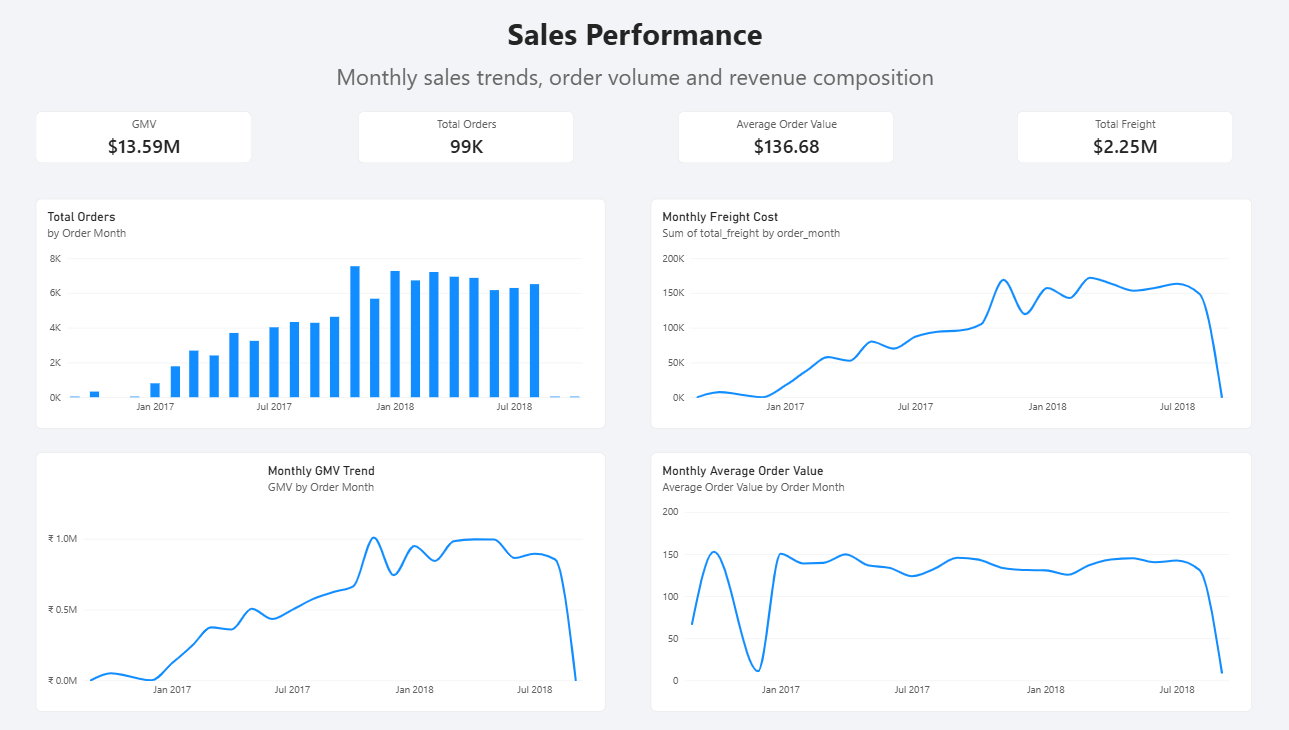

This screenshot's page, from the dashboard's own definition file:
{"tool":"powerbi","page":{"name":"Sales Performance","canvas":[1920,1080],"ordinal":1},"visuals":[{"type":"lineChart","title":"Monthly GMV Trend","fields":{"Y":["Sum(Monthly Sales.gmv)"],"Category":["Monthly Sales.order_month"]},"box":[92.5,677.5,825,375],"z":0},{"type":"columnChart","fields":{"Y":["Sum(Monthly Sales.total_orders)"],"Category":["Monthly Sales.order_month"]},"box":[92.5,310,825,332.5],"z":1000},{"type":"textbox","box":[0,0,1257.5,77.5],"z":2000},{"type":"textbox","box":[0,40,1920,70],"z":3000},{"type":"textbox","box":[0,110,1920,72.5],"z":4000},{"type":"cardVisual","fields":{"Data":["Sum(KPI Summary.gmv)"]},"box":[92.5,182.5,312.5,75],"z":5000},{"type":"cardVisual","fields":{"Data":["Sum(KPI Summary.total_orders)"]},"box":[560,182.5,312.5,75],"z":6000},{"type":"cardVisual","fields":{"Data":["Sum(KPI Summary.aov)"]},"box":[1022.5,182.5,312.5,75],"z":7000},{"type":"cardVisual","fields":{"Data":["Sum(Monthly Sales.total_freight)"]},"box":[1512.5,182.5,312.5,75],"z":8000},{"type":"lineChart","title":"Monthly Freight Cost","fields":{"Y":["Sum(Monthly Sales.total_freight)"],"Category":["Monthly Sales.order_month"]},"box":[982.5,310,870,332.5],"z":9000},{"type":"lineChart","title":"Monthly Average Order Value","fields":{"Category":["Monthly Sales.order_month"],"Y":["Sum(Monthly Sales.aov)"]},"box":[982.5,677.5,870,375],"z":10000}]}

Visuals, with their boxes in screenshot pixels (x1, y1, x2, y2), scaled from the page's 1920x1080 canvas onto the 1289x730 screenshot:
"Monthly GMV Trend" lineChart: box(62, 458, 616, 711)
columnChart - Sum(Monthly Sales.total_orders) x Monthly Sales.order_month: box(62, 210, 616, 434)
textbox: box(0, 0, 844, 52)
textbox: box(0, 27, 1288, 74)
textbox: box(0, 74, 1288, 123)
cardVisual - Sum(KPI Summary.gmv): box(62, 123, 272, 174)
cardVisual - Sum(KPI Summary.total_orders): box(376, 123, 586, 174)
cardVisual - Sum(KPI Summary.aov): box(686, 123, 896, 174)
cardVisual - Sum(Monthly Sales.total_freight): box(1015, 123, 1225, 174)
"Monthly Freight Cost" lineChart: box(660, 210, 1244, 434)
"Monthly Average Order Value" lineChart: box(660, 458, 1244, 711)
